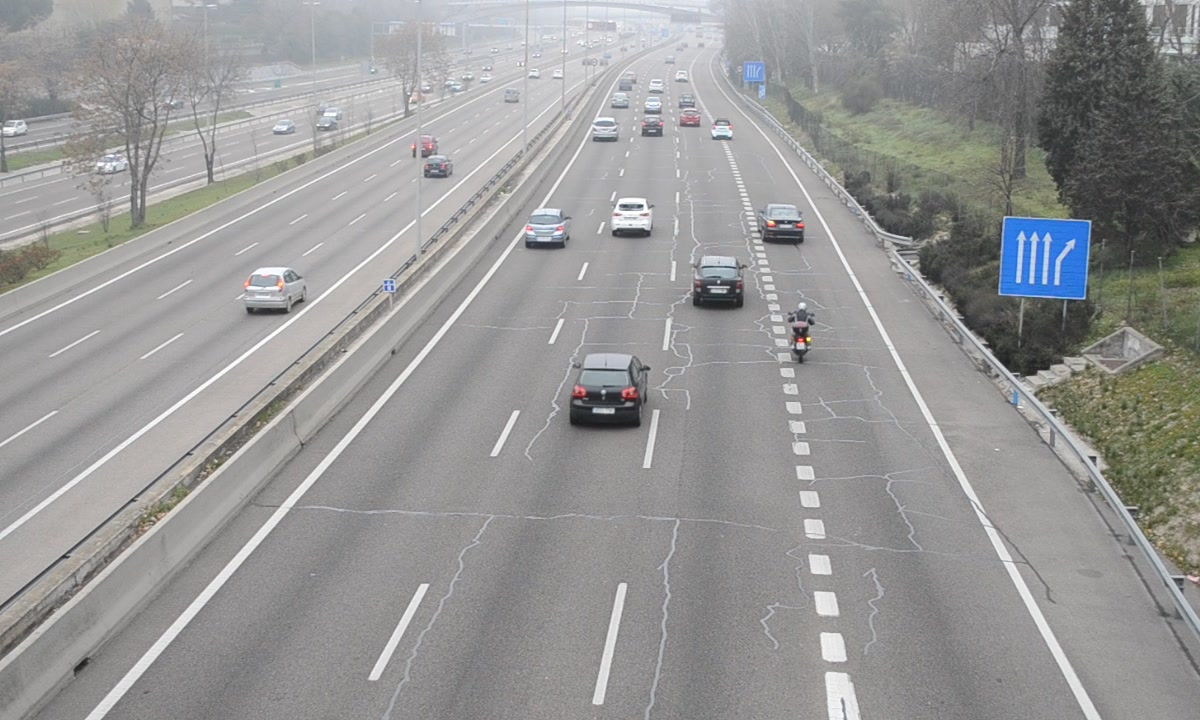car: (569, 354, 649, 429), (693, 257, 746, 307), (758, 203, 806, 245), (525, 209, 571, 248), (612, 197, 655, 236), (591, 117, 621, 143), (712, 117, 733, 141)
motorcycle: (786, 300, 817, 366)
